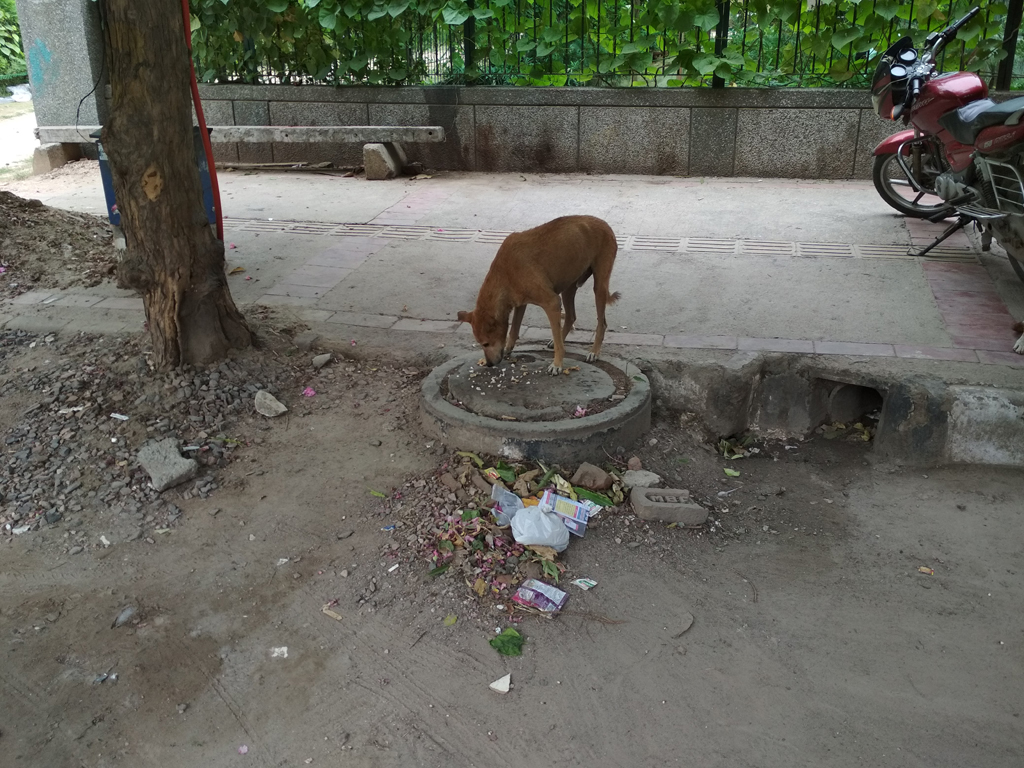dog: (458, 215, 623, 376)
